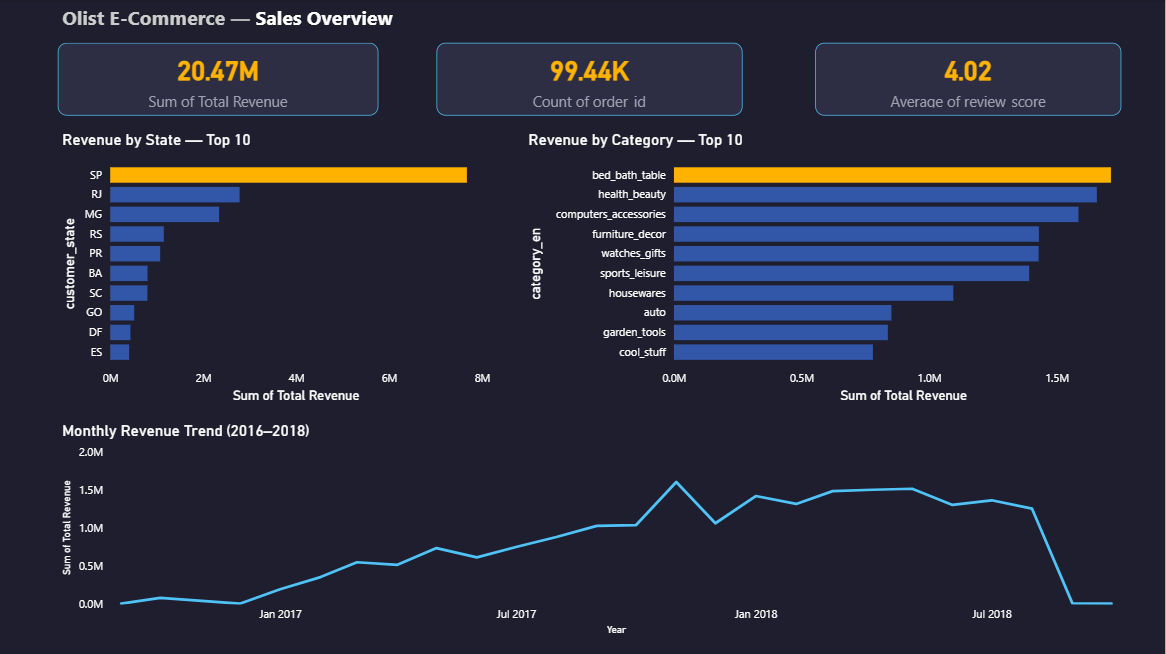

The dashboard page shown, as its layout file describes it:
{"tool":"powerbi","page":{"name":"Sales Overview","canvas":[1280,720],"ordinal":0},"visuals":[{"type":"lineChart","title":"Monthly Revenue Trend (2016–2018)","fields":{"Category":["olist_master.order_purchase_timestamp.Variation.Date Hierarchy.Year","olist_master.order_purchase_timestamp.Variation.Date Hierarchy.Month"],"Y":["Sum(olist_master.payment_value)"]},"box":[64,464,1184,240],"z":0},{"type":"clusteredBarChart","title":"Revenue by State — Top 10","fields":{"Category":["olist_master.customer_state"],"Y":["Sum(olist_master.payment_value)"]},"box":[64,144,480,304],"z":1000},{"type":"clusteredBarChart","title":"Revenue by Category — Top 10","fields":{"Category":["olist_master.category_en"],"Y":["Sum(olist_master.payment_value)"]},"box":[576,144,688,304],"z":2000},{"type":"card","title":"Total Revenue","fields":{"Values":["Sum(olist_master.payment_value)"]},"box":[64,48,352,80],"z":3000},{"type":"card","fields":{"Values":["Count(olist_master.order_id)"]},"box":[480,48,336,80],"z":4000},{"type":"card","fields":{"Values":["Avg(olist_master.review_score)"]},"box":[896,48,336,80],"z":5000},{"type":"textbox","box":[64,0,384,48],"z":6000}]}

Visuals, with their boxes in screenshot pixels (x1, y1, x2, y2), scaled from the page's 1280x720 canvas onto the 1166x654 screenshot:
"Monthly Revenue Trend (2016–2018)" lineChart: [x1=58, y1=421, x2=1137, y2=639]
"Revenue by State — Top 10" clusteredBarChart: [x1=58, y1=131, x2=496, y2=407]
"Revenue by Category — Top 10" clusteredBarChart: [x1=525, y1=131, x2=1151, y2=407]
"Total Revenue" card: [x1=58, y1=44, x2=379, y2=116]
card - Count(olist_master.order_id): [x1=437, y1=44, x2=743, y2=116]
card - Avg(olist_master.review_score): [x1=816, y1=44, x2=1122, y2=116]
textbox: [x1=58, y1=0, x2=408, y2=44]
